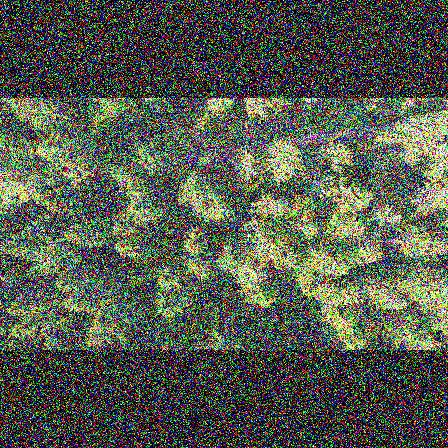Sick: (298, 166, 337, 199), (28, 221, 48, 243)
